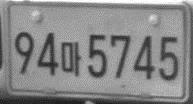4: (132, 34, 156, 80), (36, 31, 59, 76)
5: (157, 35, 179, 81), (87, 34, 107, 78)
7: (108, 33, 131, 79)
9: (13, 31, 35, 75)
마: (59, 40, 82, 78)
